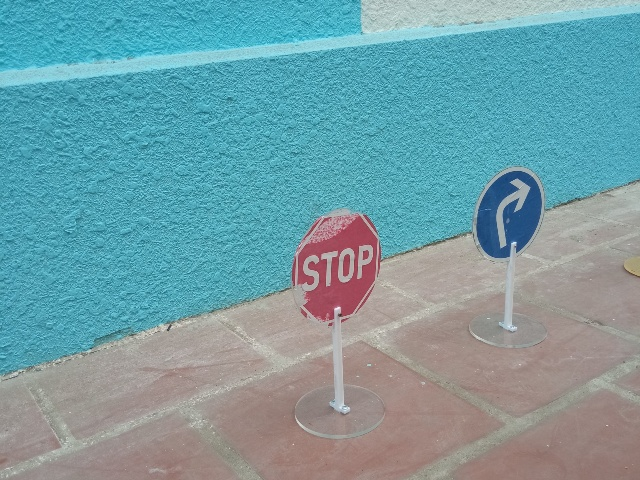Right_Sign: (473, 166, 546, 263)
Stop_Sign: (292, 208, 381, 325)
